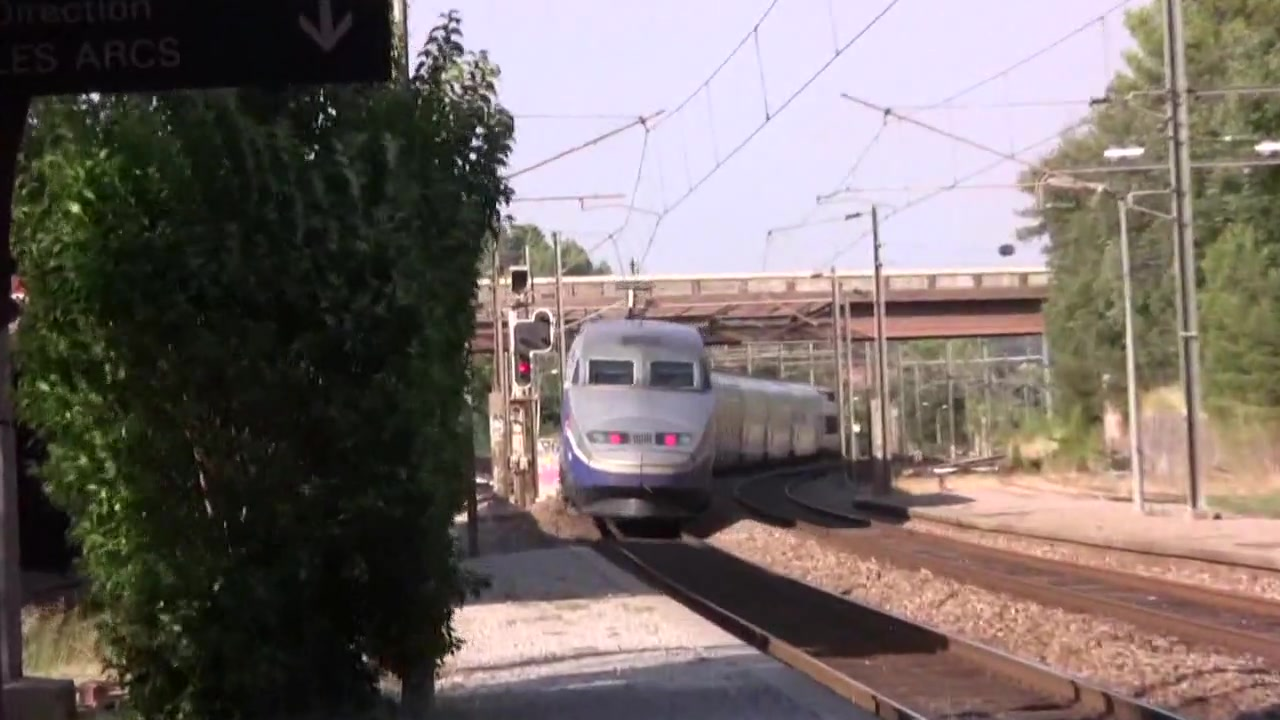train: (557, 319, 845, 522)
